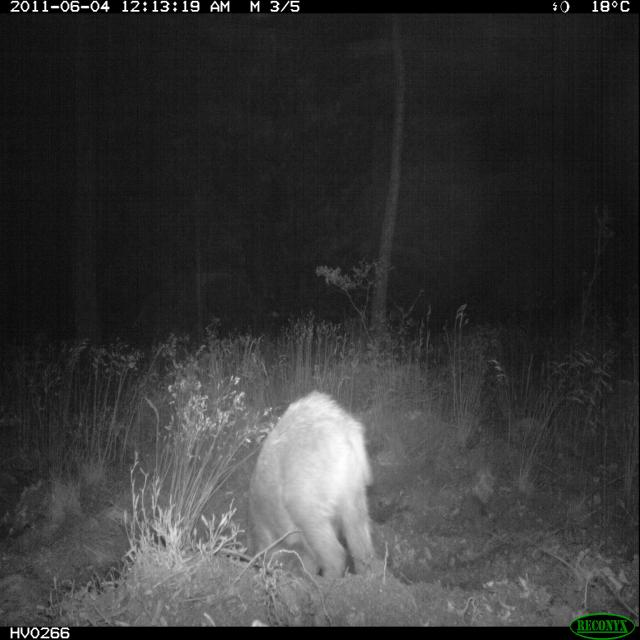boar: (216, 336, 395, 574)
